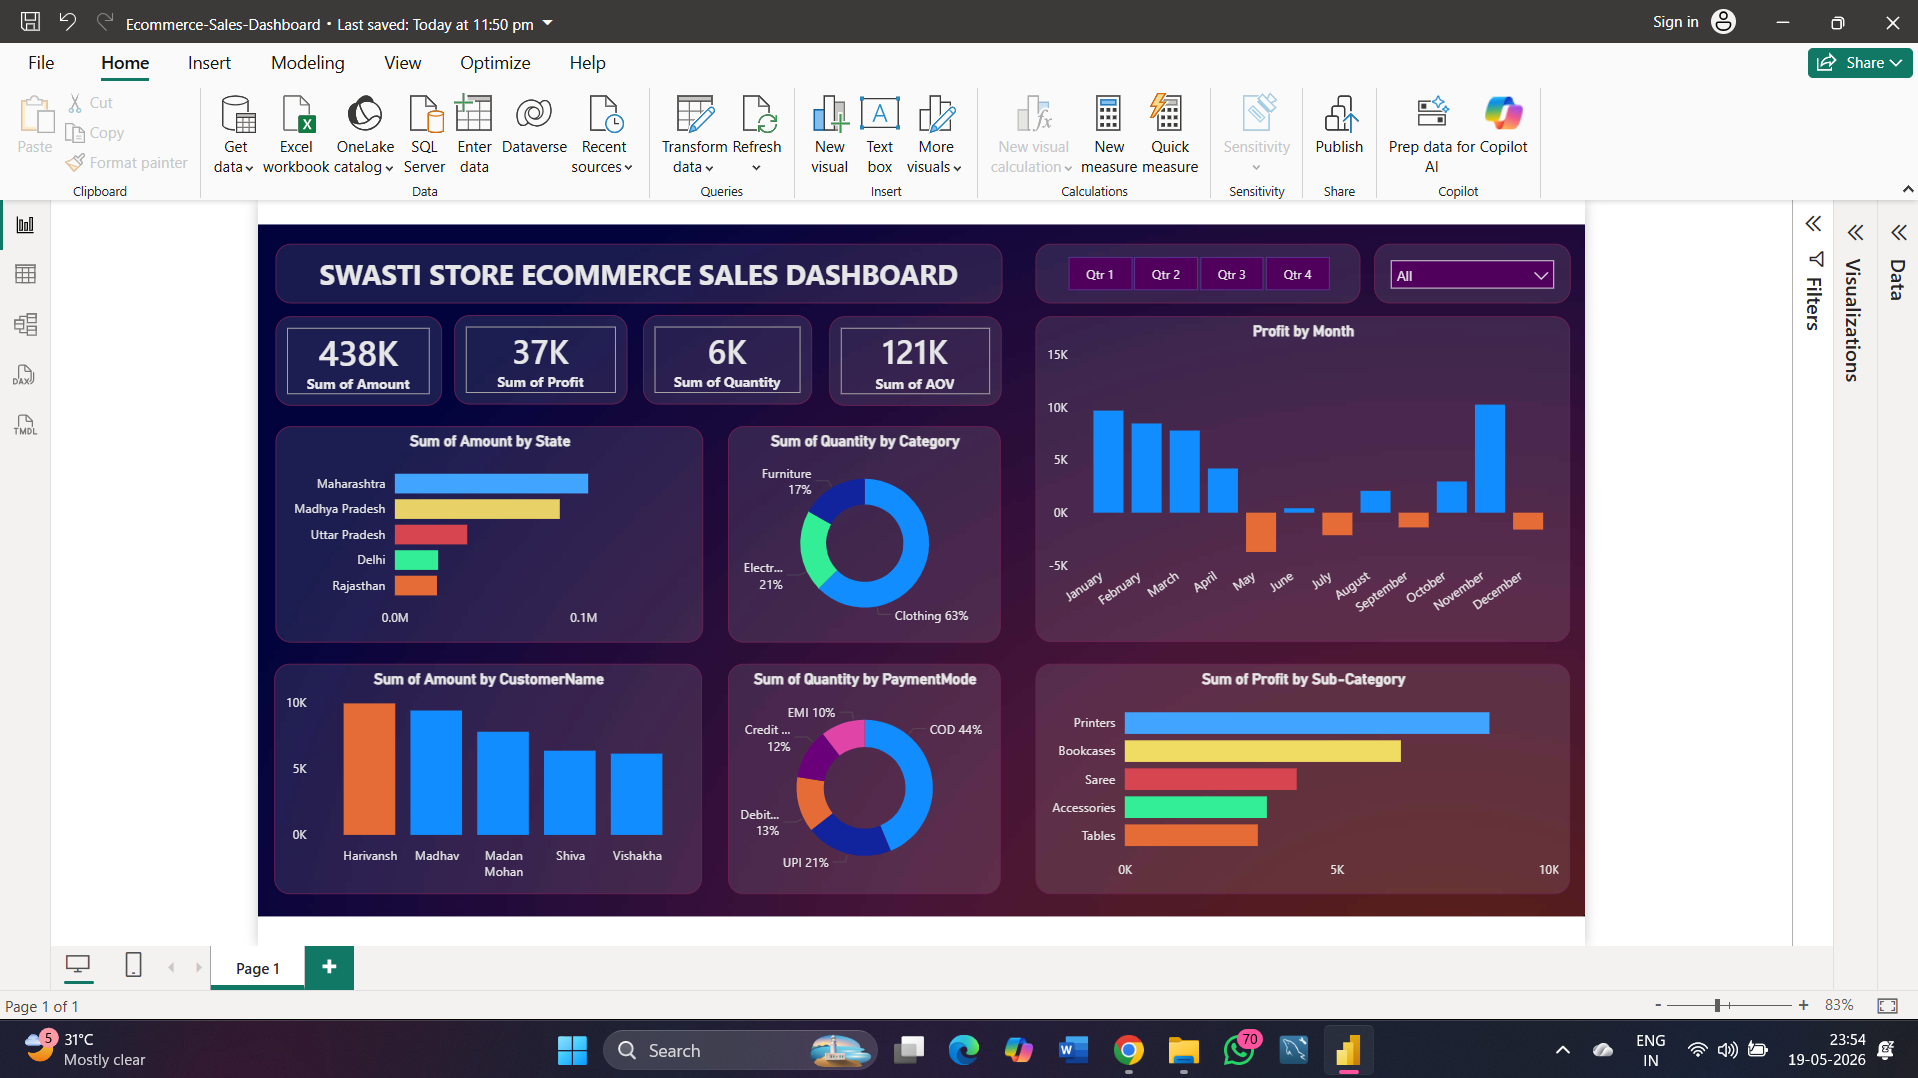

This screenshot's page, from the dashboard's own definition file:
{"tool":"powerbi","page":{"name":"Page 1","canvas":[1280,720],"ordinal":0},"visuals":[{"type":"columnChart","title":"Profit by Month","fields":{"Category":["Orders (1).Order Date.Variation.Date Hierarchy.Month"],"Y":["Sum(Details (1).Profit)"]},"box":[750.6,112.5,516,314.2],"z":0},{"type":"barChart","fields":{"Category":["Details (1).Sub-Category"],"Y":["Sum(Details (1).Profit)"]},"box":[750.6,447.3,516,222.3],"z":1000},{"type":"donutChart","fields":{"Category":["Details (1).Category"],"Y":["Sum(Details (1).Quantity)"]},"box":[454.2,218.2,263.5,208.6],"z":2000},{"type":"donutChart","fields":{"Y":["Sum(Details (1).Quantity)"],"Category":["Details (1).PaymentMode"]},"box":[454.2,447.3,263.5,222.3],"z":3000},{"type":"cardVisual","fields":{"Data":["Sum(Details (1).Amount)"]},"box":[16.5,112.5,160.5,86.4],"z":4000},{"type":"cardVisual","fields":{"Data":["Sum(Details (1).Quantity)"]},"box":[371.9,111.1,163.3,86.4],"z":5000},{"type":"cardVisual","fields":{"Data":["Sum(Details (1).Profit)"]},"box":[189.4,111.1,167.4,86.4],"z":6000},{"type":"cardVisual","fields":{"Data":["Sum(Details (1).AOV)"]},"box":[551.6,112.5,166,86.4],"z":7000},{"type":"barChart","fields":{"Category":["Orders (1).State"],"Y":["Sum(Details (1).Amount)"]},"box":[16.5,218.2,413,208.6],"z":8000},{"type":"columnChart","fields":{"Category":["Orders (1).CustomerName"],"Y":["Sum(Details (1).Amount)"]},"box":[16,447,413,222],"z":9000},{"type":"textbox","box":[16.5,42.5,701.2,57.6],"z":10000},{"type":"slicer","fields":{"Values":["Orders (1).Order Date.Variation.Date Hierarchy.Quarter"]},"box":[750.4,42.2,313.7,57.9],"z":11000},{"type":"slicer","fields":{"Values":["Orders (1).State"]},"box":[1077.4,42.2,189.4,57.9],"z":12000}]}

Visuals, with their boxes on the page's 1280x720 design canvas (x1, y1, x2, y2). These are canvas units, not pixel positions in the 1918x1078 screenshot, which may show the page scaled, cropped or inside an application window:
"Profit by Month" columnChart: (left=751, top=112, right=1267, bottom=427)
barChart - Details (1).Sub-Category x Sum(Details (1).Profit): (left=751, top=447, right=1267, bottom=670)
donutChart - Details (1).Category x Sum(Details (1).Quantity): (left=454, top=218, right=718, bottom=427)
donutChart - Sum(Details (1).Quantity) x Details (1).PaymentMode: (left=454, top=447, right=718, bottom=670)
cardVisual - Sum(Details (1).Amount): (left=16, top=112, right=177, bottom=199)
cardVisual - Sum(Details (1).Quantity): (left=372, top=111, right=535, bottom=198)
cardVisual - Sum(Details (1).Profit): (left=189, top=111, right=357, bottom=198)
cardVisual - Sum(Details (1).AOV): (left=552, top=112, right=718, bottom=199)
barChart - Orders (1).State x Sum(Details (1).Amount): (left=16, top=218, right=430, bottom=427)
columnChart - Orders (1).CustomerName x Sum(Details (1).Amount): (left=16, top=447, right=429, bottom=669)
textbox: (left=16, top=42, right=718, bottom=100)
slicer - Orders (1).Order Date.Variation.Date Hierarchy.Quarter: (left=750, top=42, right=1064, bottom=100)
slicer - Orders (1).State: (left=1077, top=42, right=1267, bottom=100)
